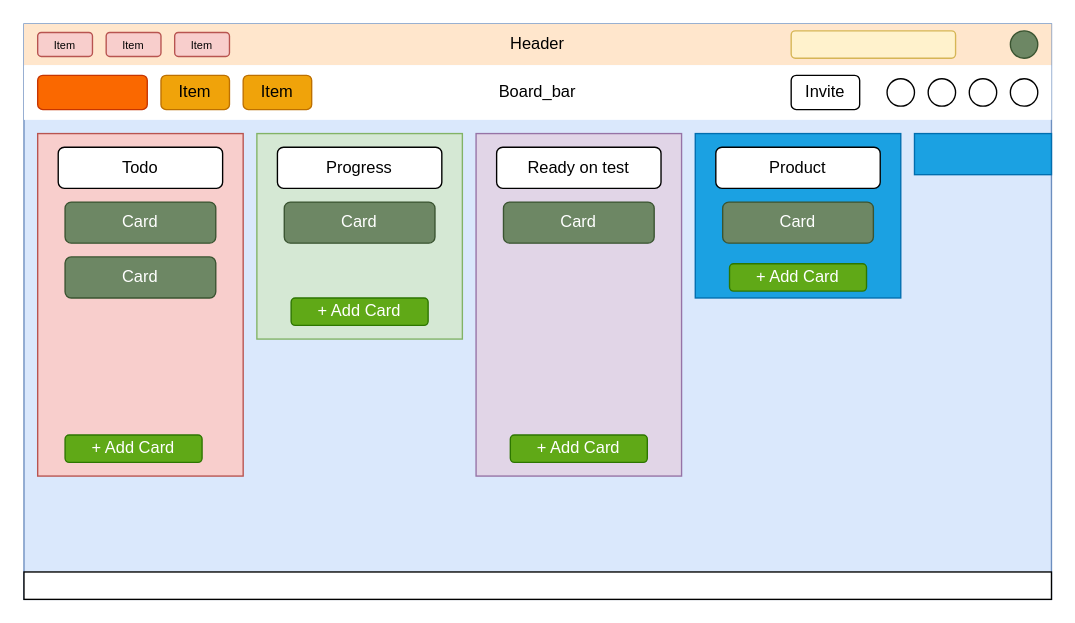
The diagram is 1075 pixels wide and 623 high, and some of its shapes have lost their labels. The centre of each missing label's shape, as x and y in pixels:
"+ Add Col" belongs at (982,153).
"Board name" belongs at (91,92).
"Scroll bar" belongs at (537,585).
"🔎 Search bar" belongs at (873,43).
